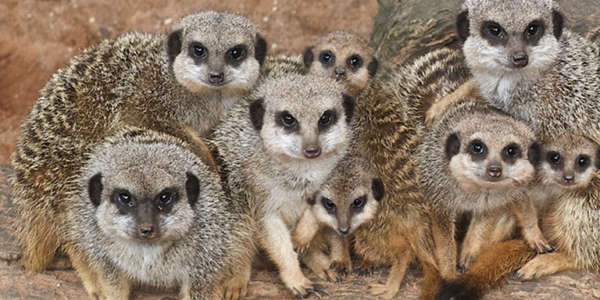meerkat: (67, 118, 217, 300), (417, 98, 546, 266)
